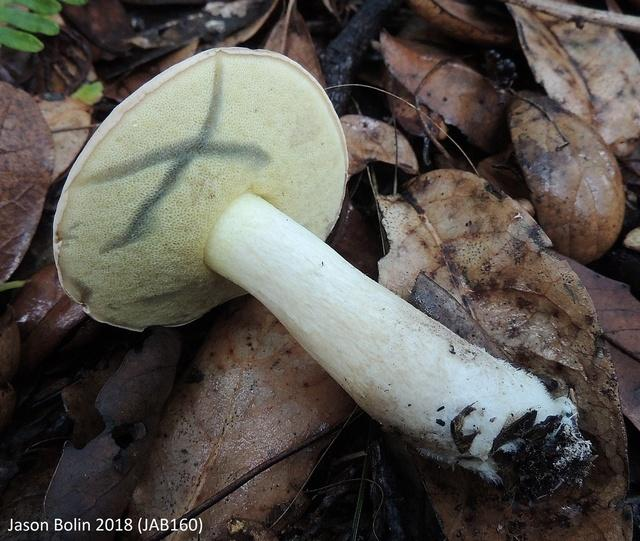Edible Mushroom: (50, 44, 594, 498)
